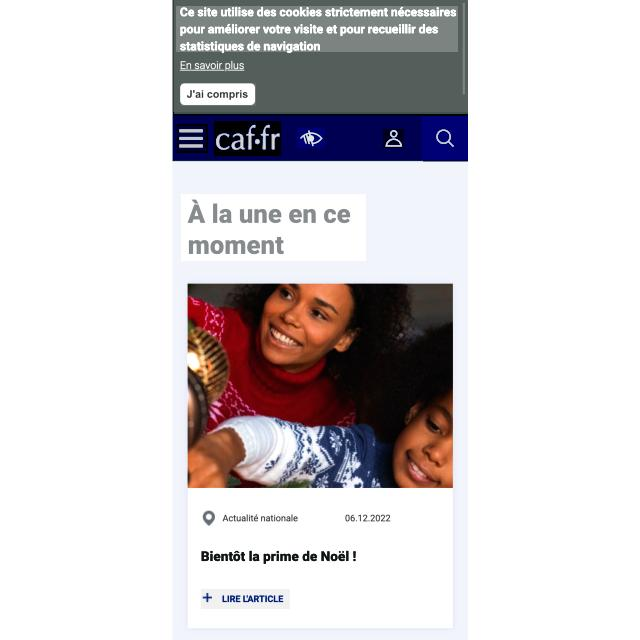CheckBox: (423, 115, 468, 162), (201, 589, 290, 609), (181, 83, 256, 106)
Input field: (176, 6, 458, 52)
bag: (172, 112, 468, 160)
breadcrumbs: (202, 548, 364, 565)
carousel: (177, 124, 208, 153), (297, 128, 325, 148), (383, 129, 404, 148)
copy: (187, 284, 453, 488)
date picker: (214, 121, 281, 156)
decoration: (178, 126, 206, 151)
header: (174, 0, 468, 114)
image: (181, 194, 366, 261)
